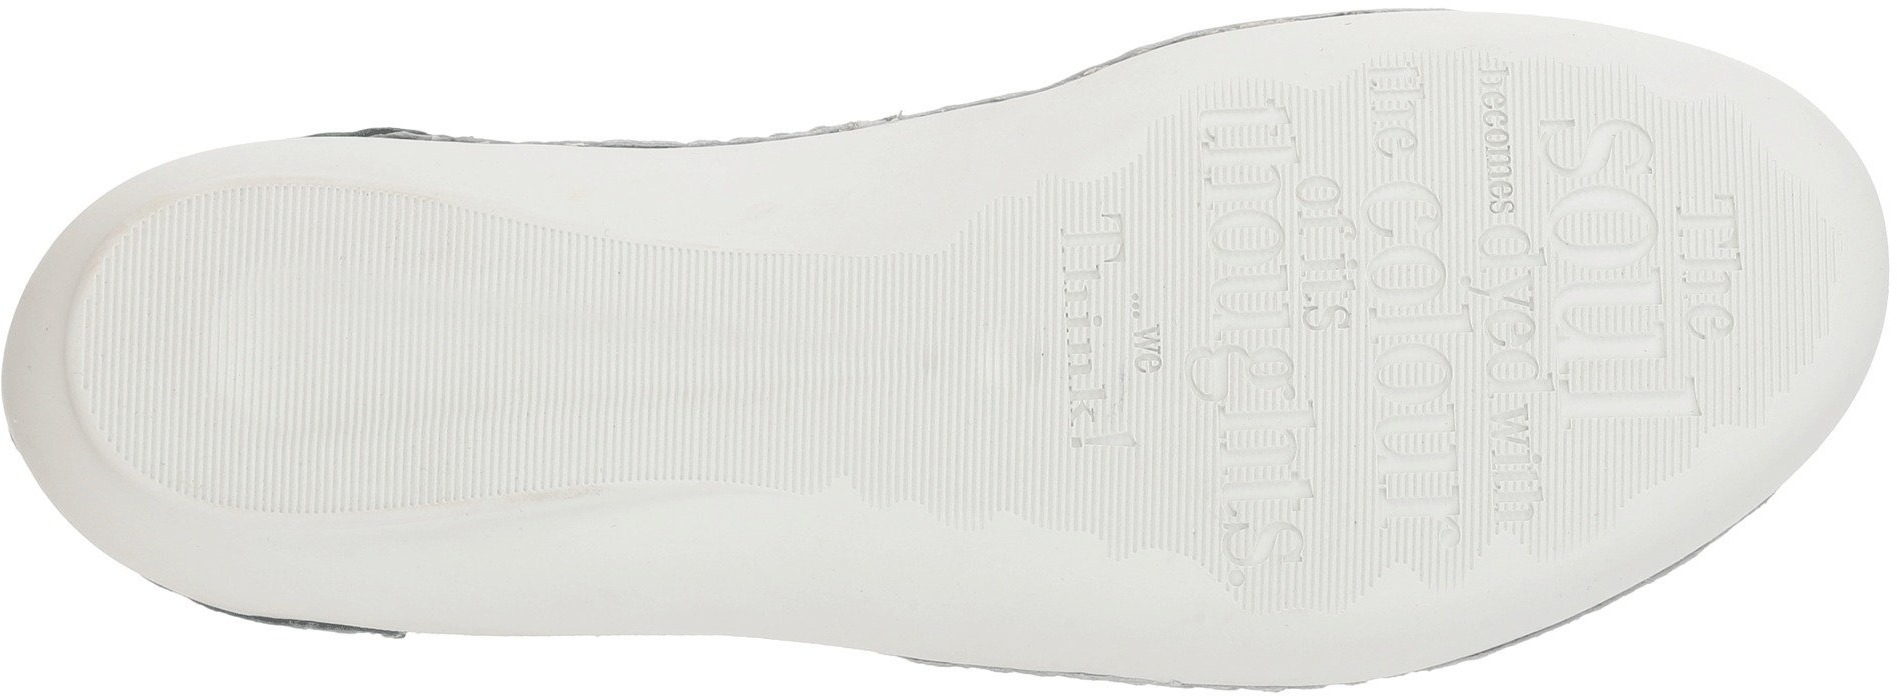other: (358, 252, 592, 490), (128, 253, 342, 468), (615, 274, 834, 481), (848, 300, 1054, 499)
text: (1218, 91, 1498, 367), (1503, 130, 1753, 395), (1207, 372, 1533, 566), (1061, 212, 1201, 402)
